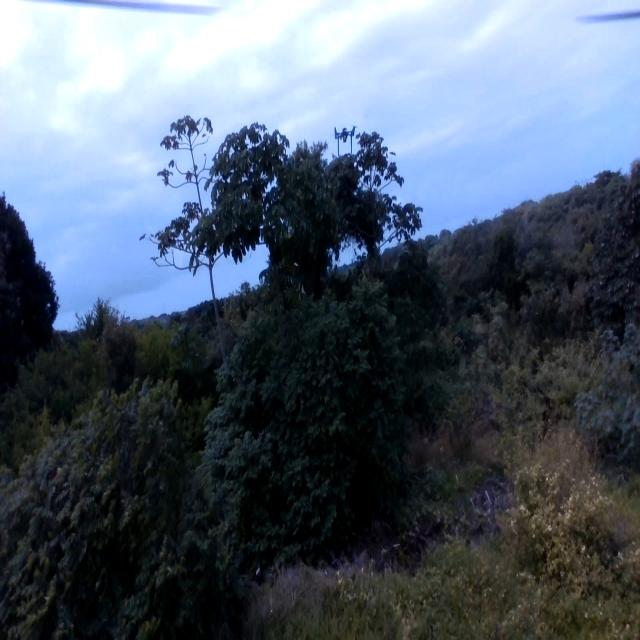-uav-: (326, 122, 362, 156)
